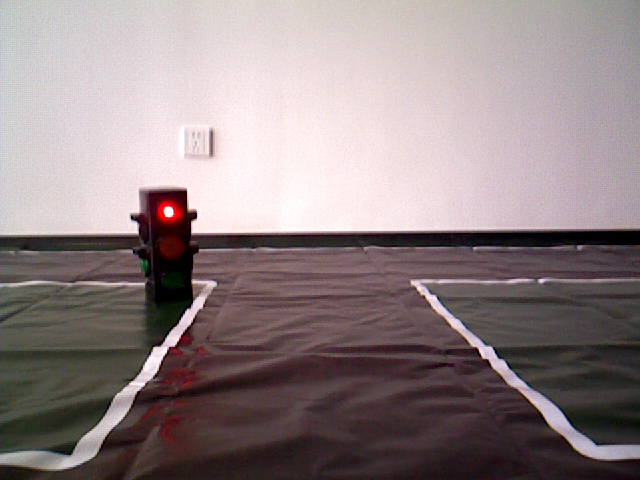red: (141, 190, 190, 303)
